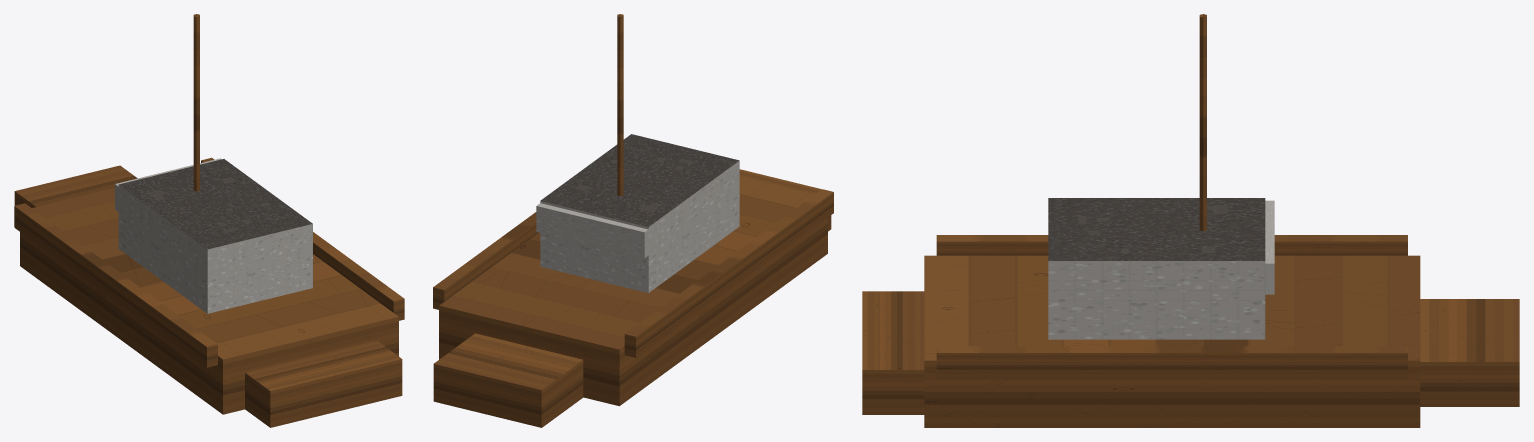
Rendered from boat_small.obj.
3 views of the same model, side by side, from view 1: azimuth 30°, elevation 25°; view 2: azimuth 150°, elevation 25°; view 3: azimuth 270°, elevation 25° (orthographic). The views are drawn at different scales.
Bounding box in the file's own units: 4.5 × 6.4 × 10.6.
Materials: 4 (4 with a texture image).
